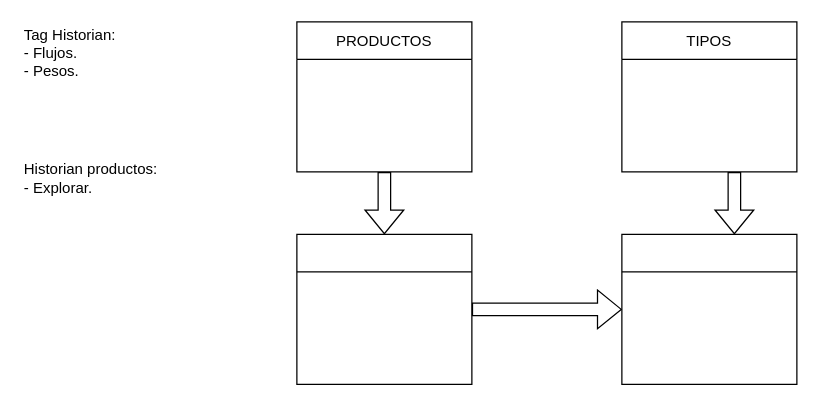
This 819x406 diagram has some shape labels left out. The centre of each missing label's shape, as x and y in pixels:
BALANZAS: (x=709, y=308)
RECETAS: (x=384, y=308)
